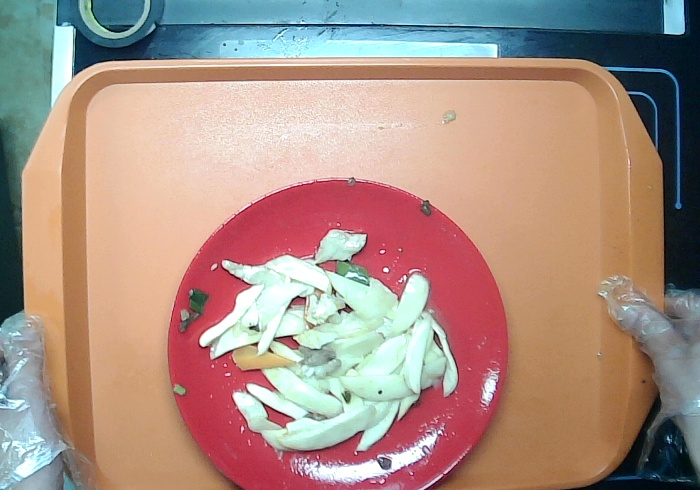HZYJPL-Hong_Se_Yuan_Pan: (162, 177, 510, 490)
